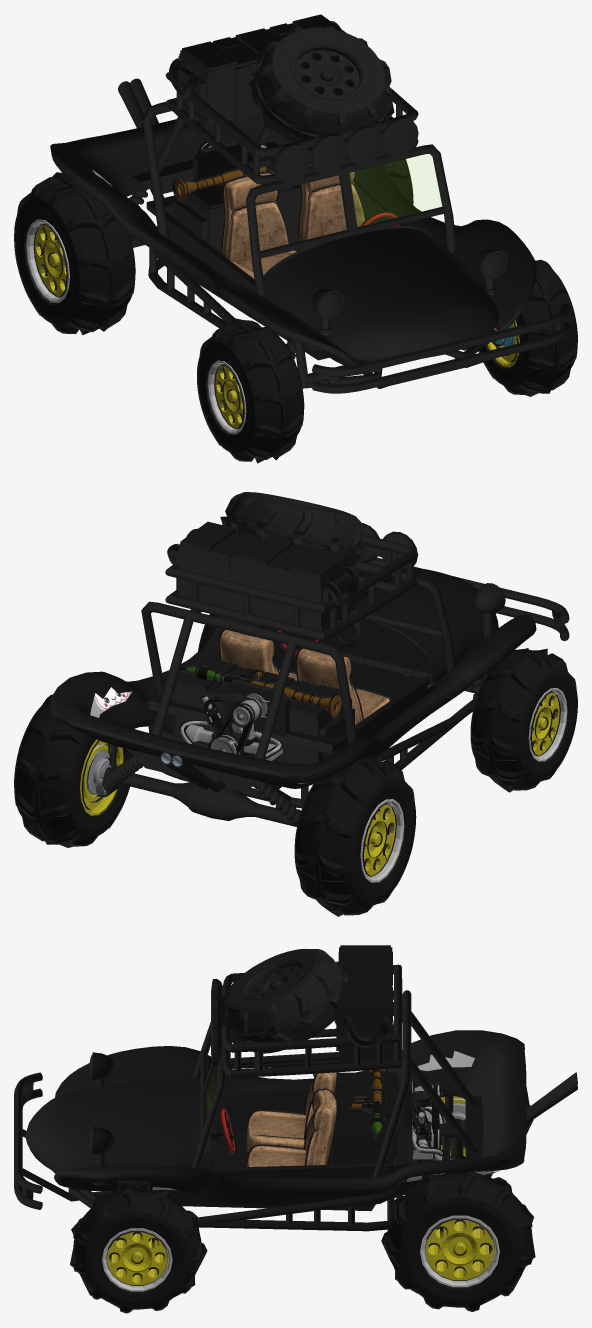
File: buggy.glb
The picture shows the model from 3 angles, top to bottom: view 1: azimuth 30°, elevation 25°; view 2: azimuth 150°, elevation 25°; view 3: azimuth 270°, elevation 25°; orthographic projection. The views are drawn at different scales.
Visible parts, largest first — view 1: body, wheel_RR, wheel_FR, wheel_FL, wheel_RL; view 2: body, wheel_RR, wheel_FR, wheel_RL; view 3: body, wheel_RL, wheel_FL.
Part boxes in pixels (<box>): body: <box>50,14,569,393</box>; wheel_RR: <box>14,172,135,335</box>; wheel_FR: <box>197,318,304,463</box>; wheel_FL: <box>478,259,577,396</box>; wheel_RL: <box>383,159,413,204</box>; body: <box>49,492,569,826</box>; wheel_RR: <box>294,746,416,916</box>; wheel_FR: <box>470,648,577,792</box>; wheel_RL: <box>14,694,132,847</box>; body: <box>14,945,577,1231</box>; wheel_RL: <box>381,1171,535,1311</box>; wheel_FL: <box>70,1184,207,1313</box>.
Bounding box in the file's own units: 2.42 × 2.19 × 3.77.
5 materials, 3 textured.
